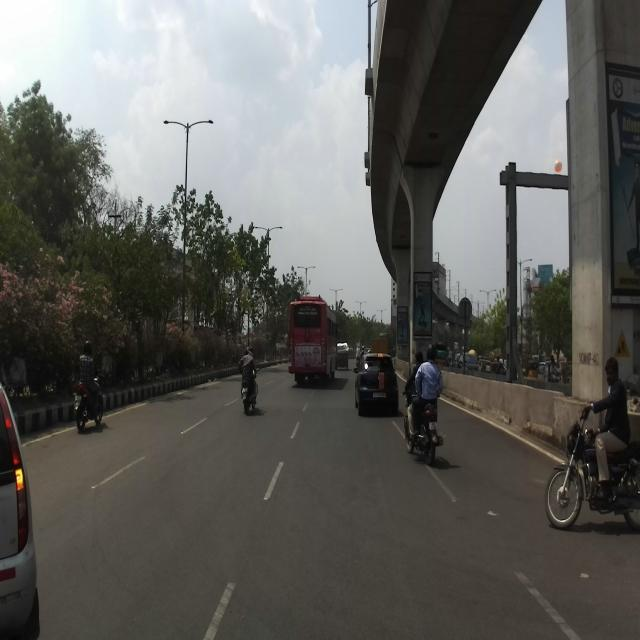car: (353, 349, 400, 419)
motorcycle: (544, 406, 640, 534), (401, 391, 443, 465), (73, 371, 104, 431)
